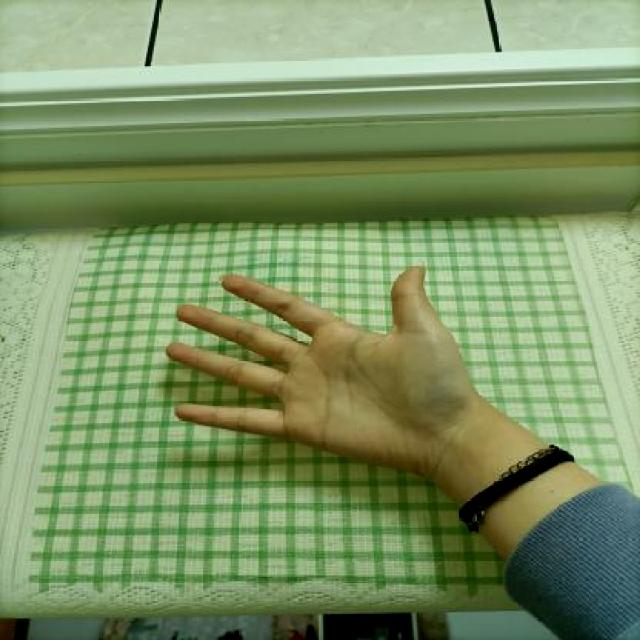no_glove: (137, 246, 488, 483)
